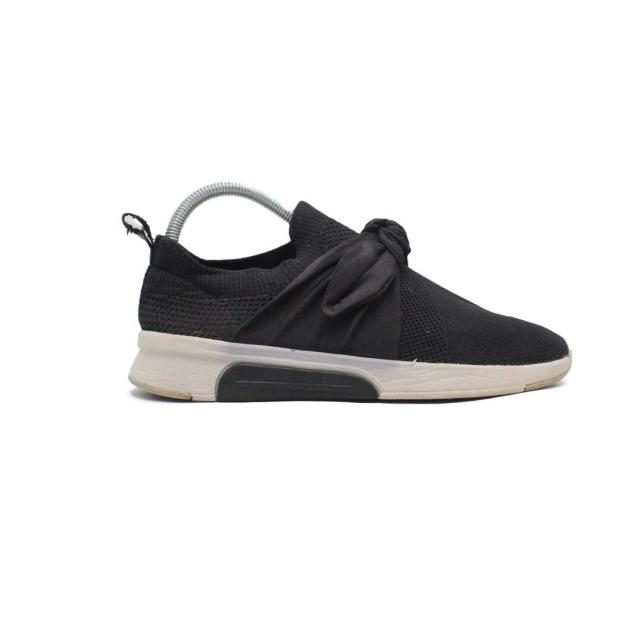heel: (123, 213, 222, 336)
midsole: (129, 331, 571, 402)
uppersole: (219, 195, 571, 363)
